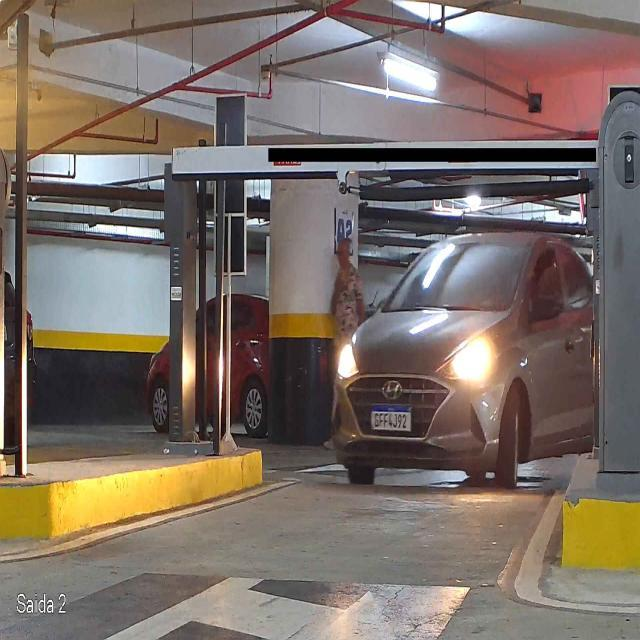mercosul_plate: (369, 405, 414, 433)
